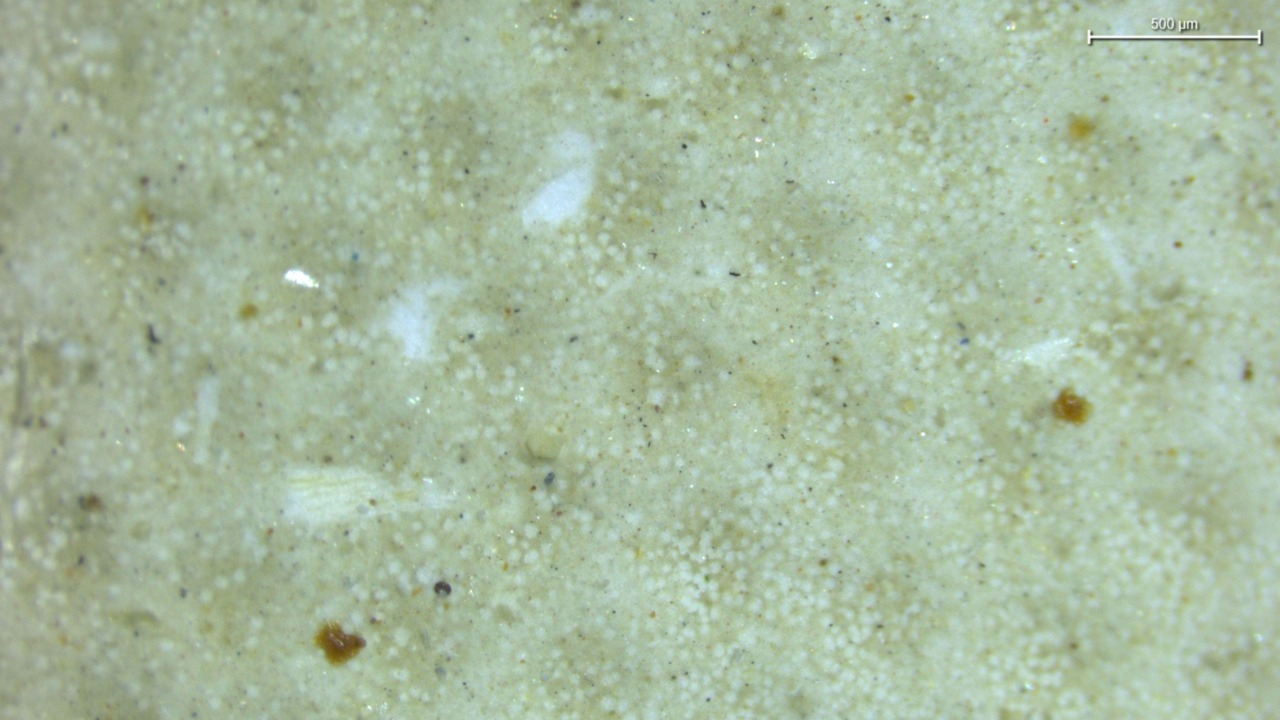microplastic_fragment: (526, 430, 564, 460)
